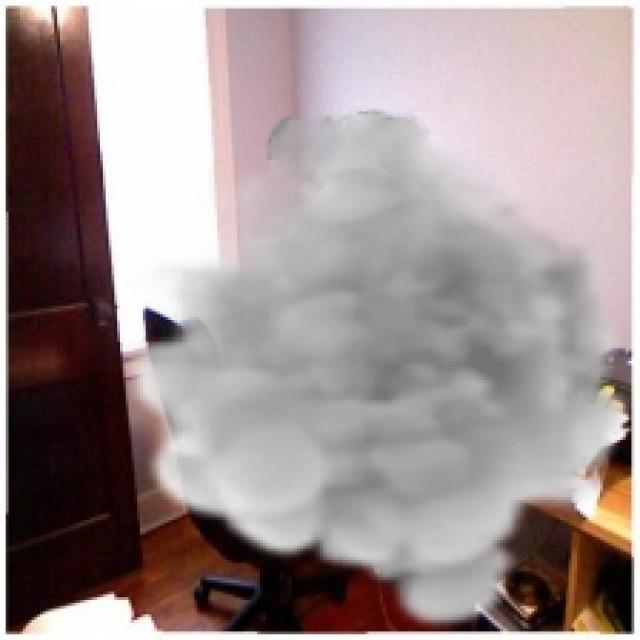smoke: (120, 106, 634, 634)
